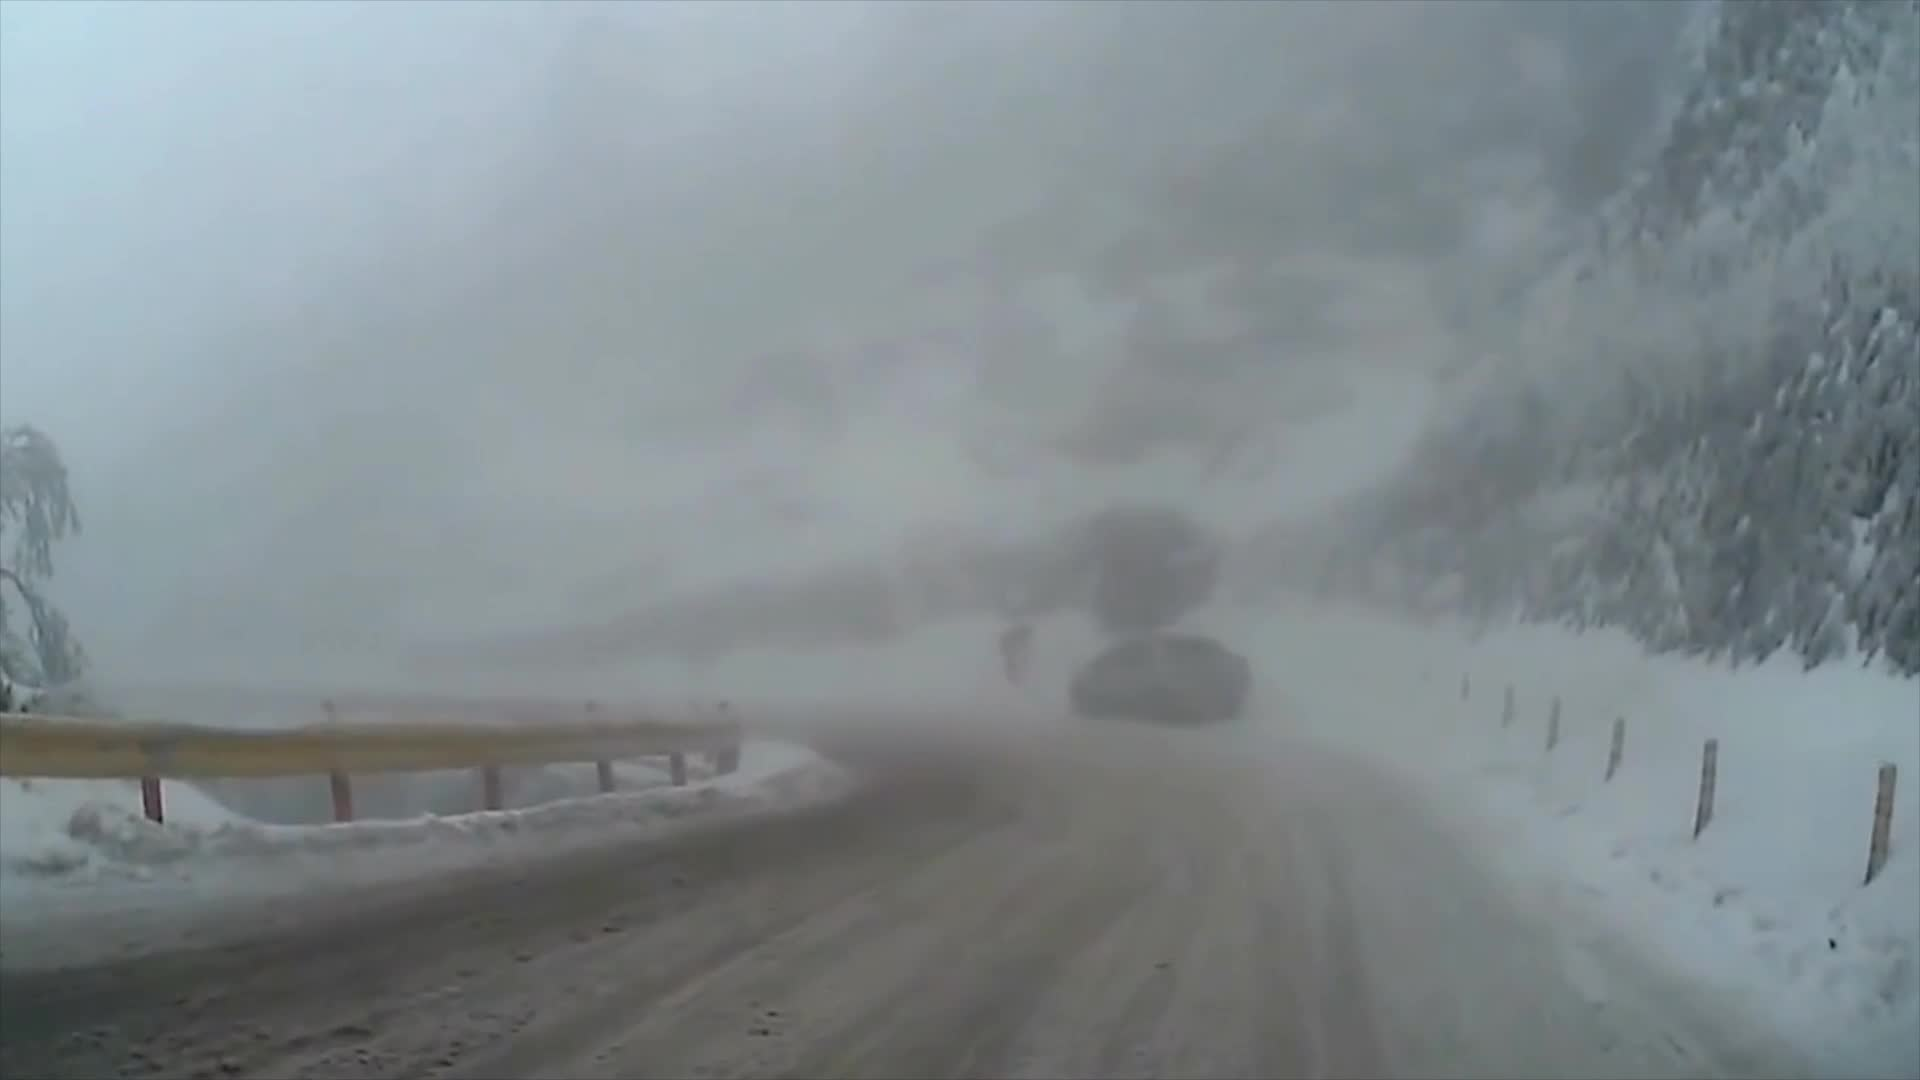pedestrian: (998, 624, 1034, 687)
vehicle: (1070, 632, 1250, 722)
